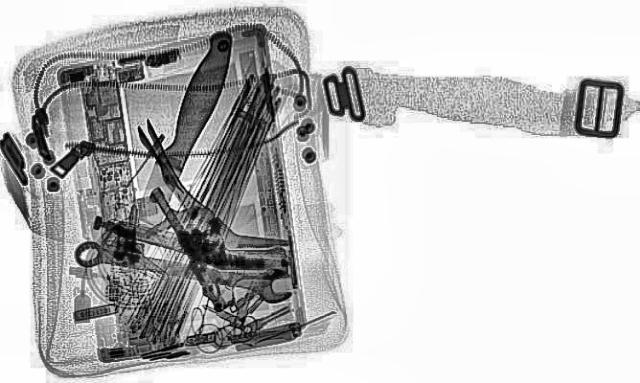Gun: (146, 172, 310, 312)
Knife: (113, 28, 247, 258)
Wrench: (63, 232, 301, 304)
